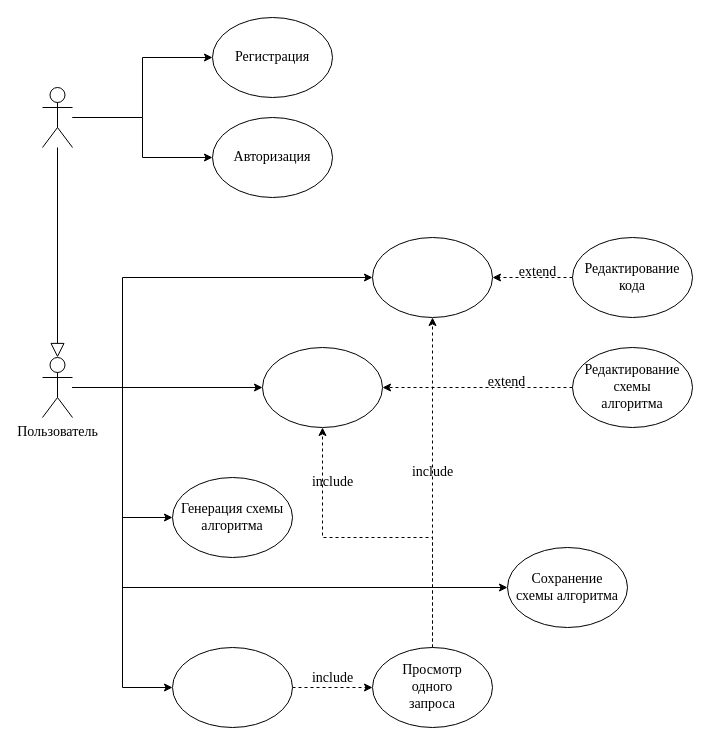
This 710x745 diagram has some shape labels left out. Here are the shapes that lost their labels. From the top down, the centre of each, then its label:
point (57, 117): Гость
point (432, 277): Просмотр кода
point (322, 387): Просмотр схемы алгоритма
point (232, 687): Просмотр истории запросов
